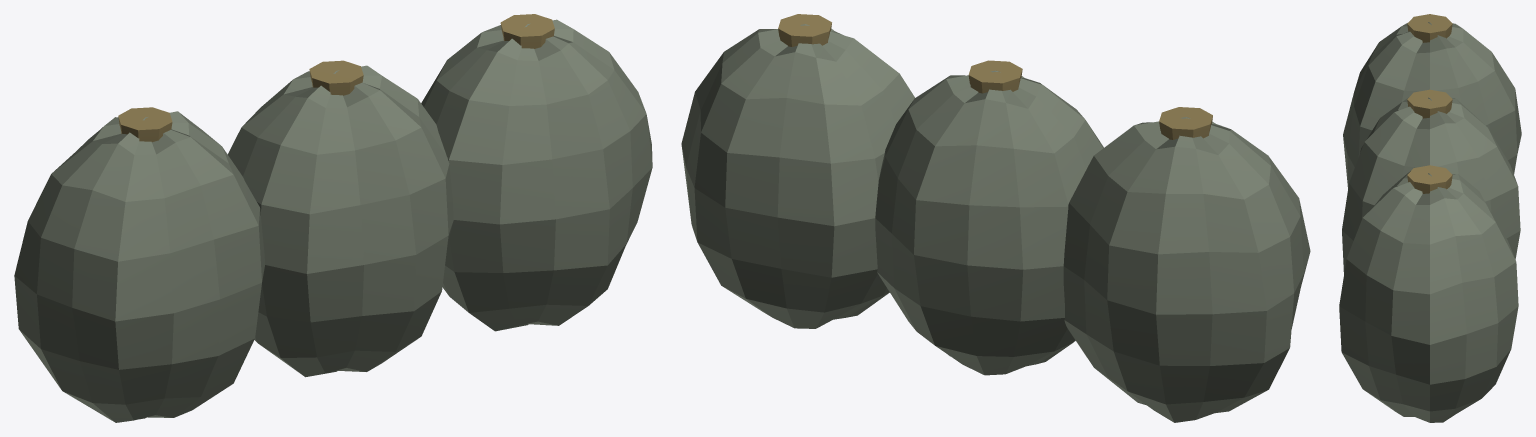
The model's file is worn_supply_bundle.glb.
The picture shows the model from 3 angles, left to right: view 1: azimuth 30°, elevation 25°; view 2: azimuth 150°, elevation 25°; view 3: azimuth 270°, elevation 25°; orthographic projection. The views are drawn at different scales.
Visible parts, largest first — view 1: worn_supply_bundle_painted_export; view 2: worn_supply_bundle_painted_export; view 3: worn_supply_bundle_painted_export.
Part boxes in pixels (x1,y1,x2,y2): worn_supply_bundle_painted_export: (14, 14, 652, 422); worn_supply_bundle_painted_export: (681, 14, 1310, 422); worn_supply_bundle_painted_export: (1339, 14, 1521, 422).
Bounding box in the file's own units: 1.77 × 0.8273 × 0.5612.
